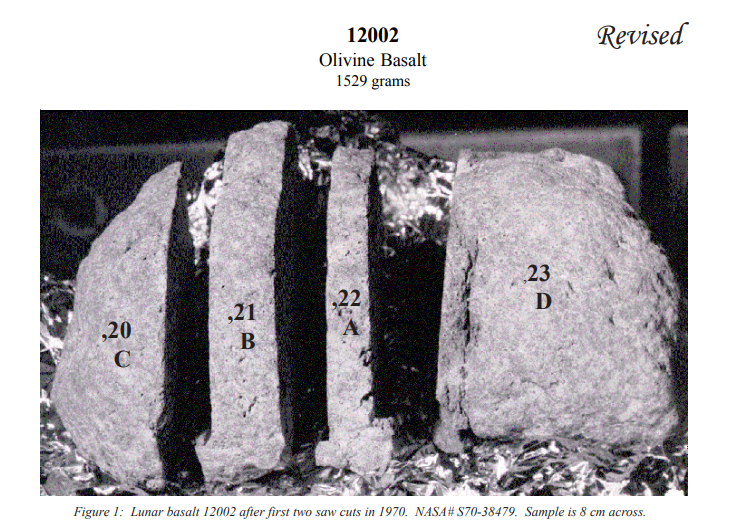Basalt: (452, 134, 677, 468), (42, 149, 197, 485), (213, 119, 287, 478), (323, 137, 397, 478)
